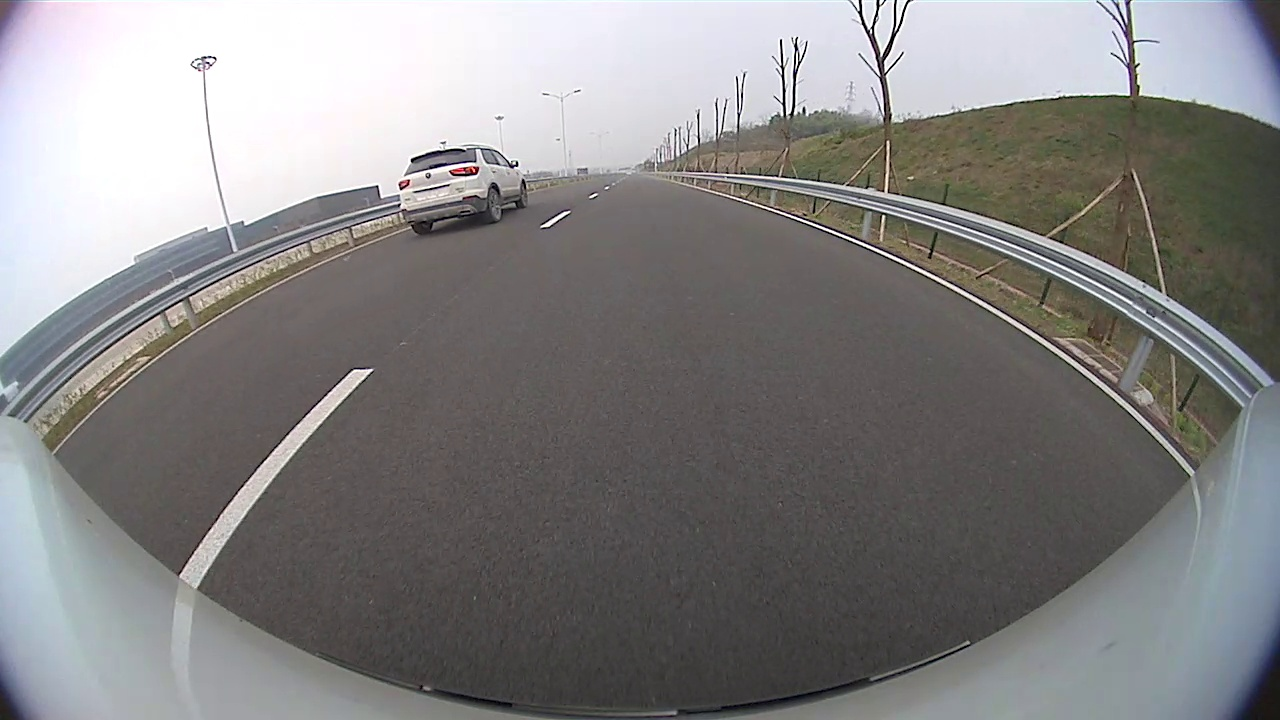car: (396, 143, 531, 239)
front: (518, 182, 528, 209)
rear: (487, 189, 503, 222)
